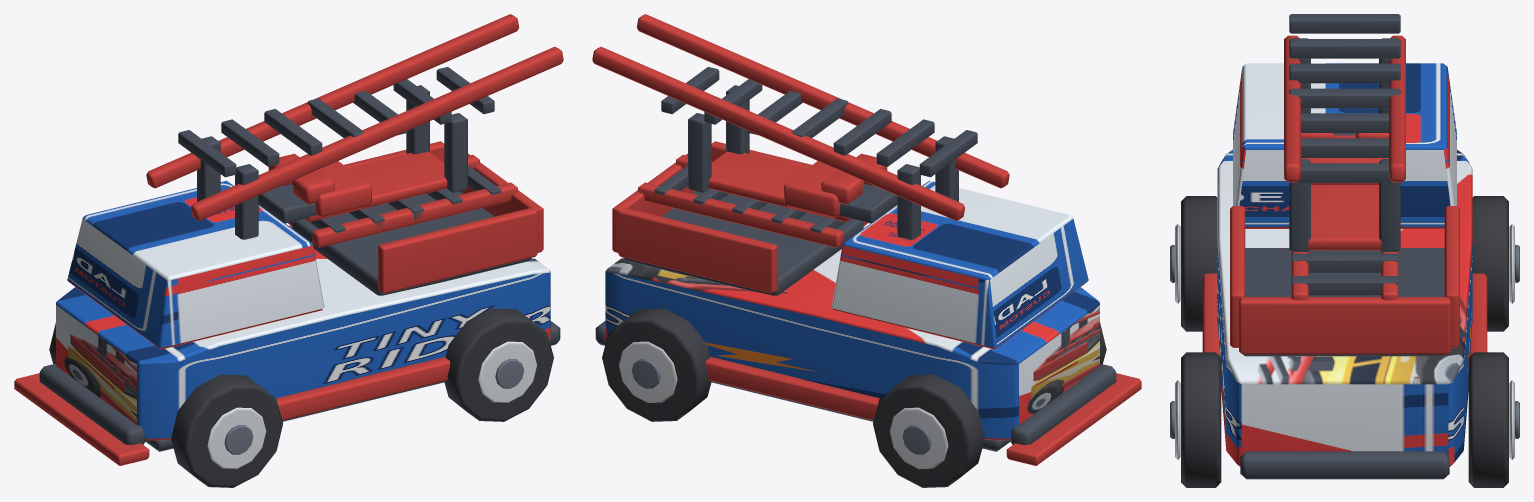
3 views of the same model, side by side, from view 1: azimuth 30°, elevation 25°; view 2: azimuth 150°, elevation 25°; view 3: azimuth 270°, elevation 25° (orthographic). The views are drawn at different scales.
Visible parts, largest first — view 1: RC-03_connected_shell, RC-03_cabin, cargo side, long elevated ladder rail, Tire, Tire.002, long elevated ladder rail.001, cargo floor, custom side guard, raised ladder extension, folded ladder rail, custom chin (+21 smaller); view 2: RC-03_connected_shell, RC-03_cabin, cargo side.001, long elevated ladder rail.001, Tire.001, Tire.003, long elevated ladder rail, cargo floor, custom side guard.001, raised ladder extension, folded ladder rail.001, custom chin (+21 smaller); view 3: RC-03_connected_shell, RC-03_cabin, cargo tail, rear bumper, cargo floor, Tire.002, Tire.003, raised ladder extension, Tire, Tire.001, elevated ladder rung.002, elevated ladder rung (+22 smaller).
Boxes of the visible parts, x1,y1,x2,y2 form: RC-03_connected_shell: (56, 225, 550, 440); RC-03_cabin: (67, 180, 324, 349); cargo side: (378, 207, 537, 293); long elevated ladder rail: (191, 46, 563, 220); Tire: (171, 374, 282, 487); Tire.002: (444, 308, 553, 421); long elevated ladder rail.001: (146, 14, 519, 188); cargo floor: (292, 191, 531, 295); custom side guard: (276, 356, 450, 420); raised ladder extension: (305, 151, 447, 221); folded ladder rail: (312, 182, 517, 247); custom chin: (14, 373, 149, 465); RC-03_connected_shell: (605, 225, 1099, 440); RC-03_cabin: (831, 180, 1088, 349); cargo side.001: (618, 207, 777, 293); long elevated ladder rail.001: (592, 46, 964, 220); Tire.001: (873, 374, 984, 487); Tire.003: (602, 308, 711, 421); long elevated ladder rail: (636, 14, 1009, 188); cargo floor: (624, 191, 863, 295); custom side guard.001: (705, 356, 879, 420); raised ladder extension: (708, 151, 850, 221); folded ladder rail.001: (638, 182, 843, 247); custom chin: (1006, 373, 1141, 465); RC-03_connected_shell: (1217, 150, 1472, 466); RC-03_cabin: (1233, 63, 1456, 228); cargo tail: (1239, 297, 1450, 354); rear bumper: (1240, 451, 1449, 479); cargo floor: (1243, 248, 1446, 356); Tire.002: (1181, 352, 1221, 487); Tire.003: (1468, 352, 1508, 487); raised ladder extension: (1308, 185, 1381, 250); Tire: (1181, 196, 1217, 331); Tire.001: (1472, 196, 1508, 331); elevated ladder rung.002: (1289, 63, 1400, 83); elevated ladder rung: (1289, 14, 1400, 33).
Size of the model in its own units: 418 by 267 by 226.
